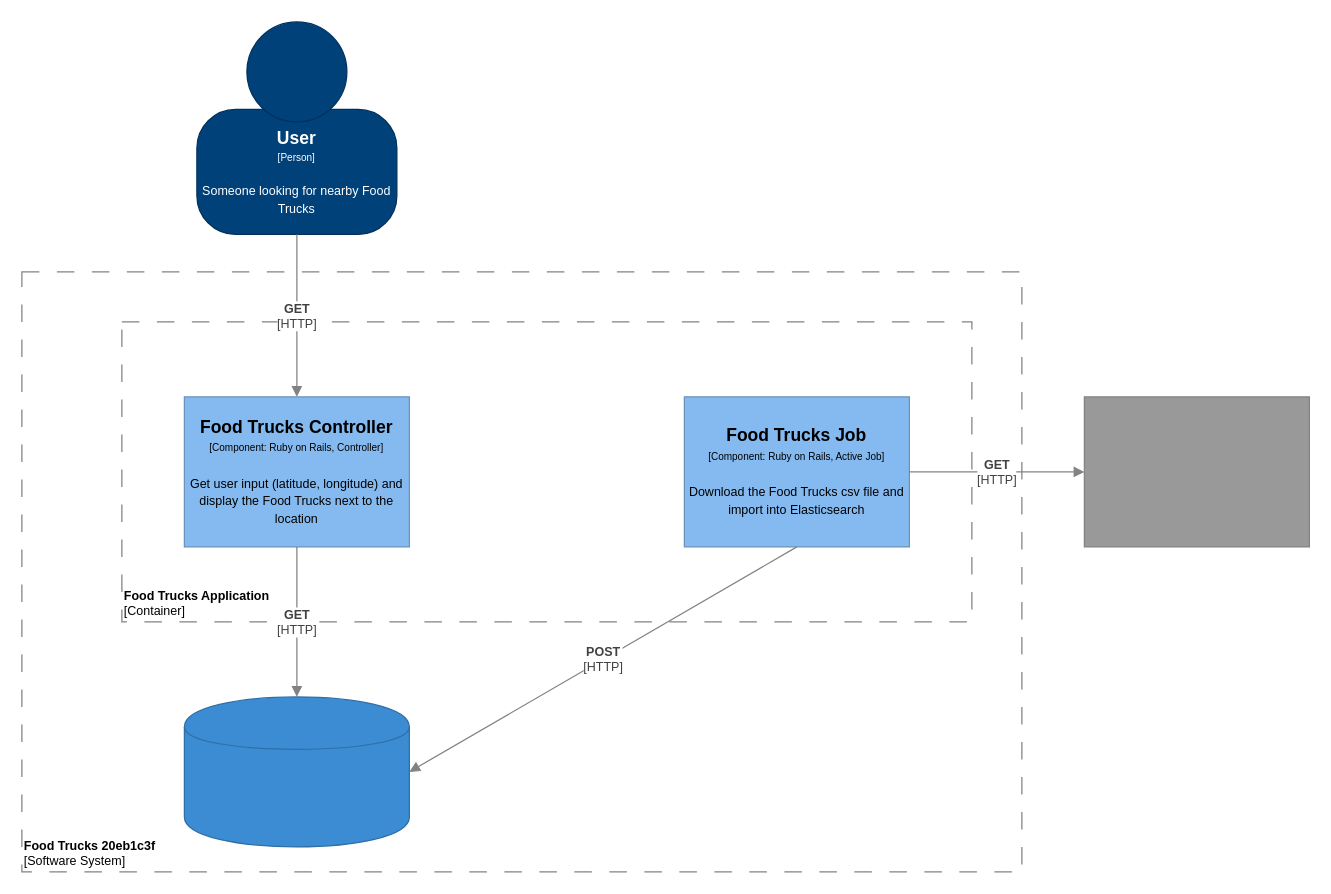
The diagram is 1331 pixels wide and 894 high, and some of its shapes have lost their labels. The shapes that lost their labels are listed below. From the top down, each one's centre as x and y in pixels, then its label:
At pixel 1196 471: "Data SF [Software System ] Mobile Food Facility CSV file".
At pixel 296 771: "Database [Container: Elasticsearch] Database to read and write".
